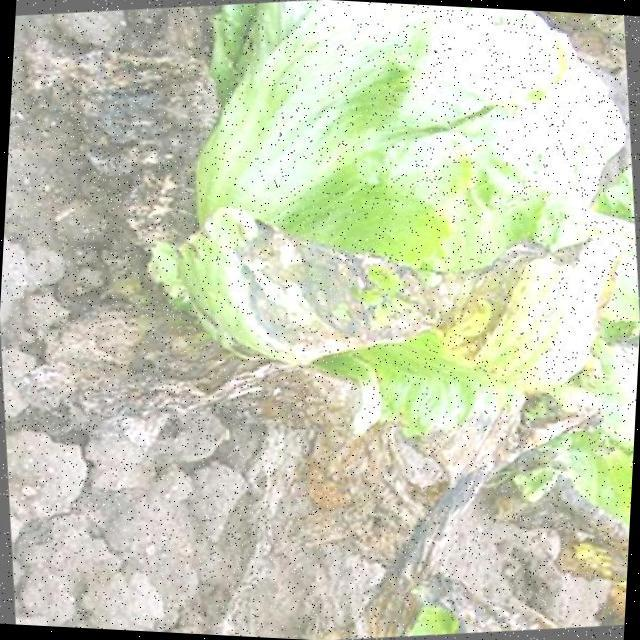Bacterial: (234, 192, 466, 368)
